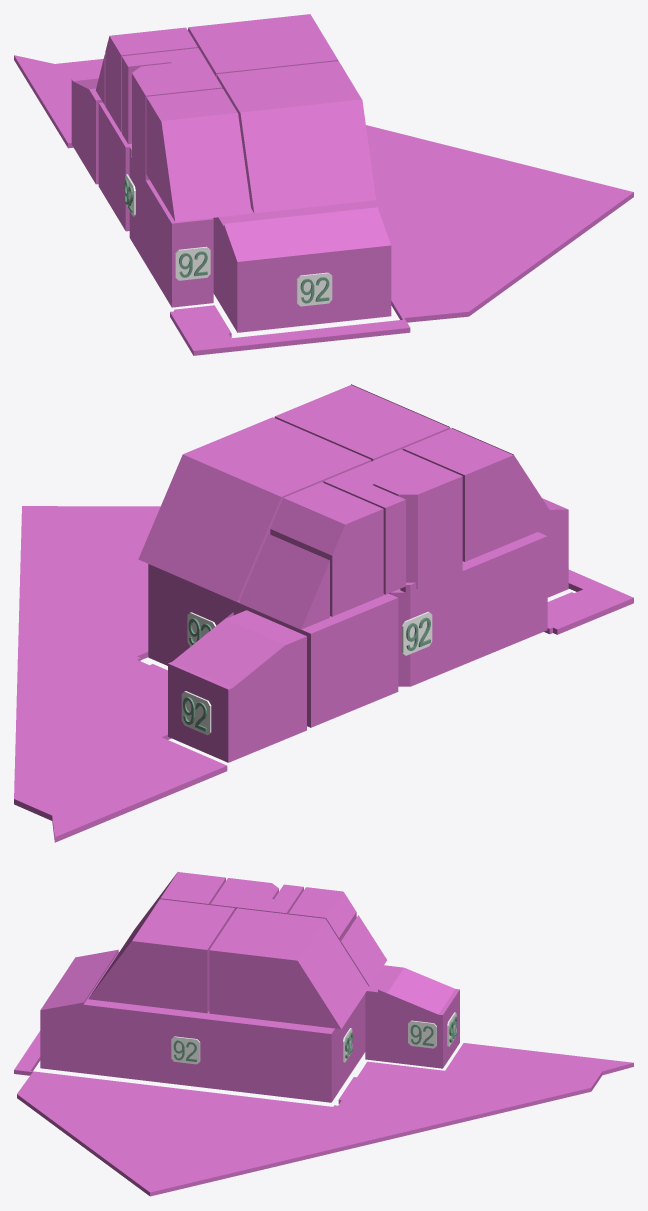
The picture shows the model from 3 angles, top to bottom: view 1: azimuth 30°, elevation 25°; view 2: azimuth 150°, elevation 25°; view 3: azimuth 270°, elevation 25°; orthographic projection. The views are drawn at different scales.
Parts seen in each view (by area): view 1: g_14, g_1, g_8, g_9, g_7, g_4, g_16, g_10, g_6, g_0, g_13, g_5 (+5 smaller); view 2: g_16, g_7, g_14, g_5, g_0, g_9, g_6, g_4, g_8, g_11, g_12, g_2 (+5 smaller); view 3: g_14, g_16, g_1, g_7, g_8, g_0, g_5, g_6, g_9, g_12, g_10, g_11 (+3 smaller).
Part boxes in pixels (x1,y1,x2,y2): g_14: (370, 147, 633, 322); g_1: (213, 200, 391, 332); g_8: (217, 61, 375, 213); g_9: (146, 88, 251, 221); g_7: (188, 14, 338, 77); g_4: (146, 181, 213, 307); g_16: (14, 55, 452, 155); g_10: (122, 48, 222, 143); g_6: (105, 27, 197, 132); g_0: (98, 102, 131, 231); g_13: (231, 319, 410, 351); g_5: (71, 76, 102, 184); g_16: (14, 605, 227, 842); g_7: (138, 417, 371, 601); g_14: (19, 506, 160, 659); g_5: (168, 610, 306, 762); g_0: (148, 564, 398, 727); g_9: (403, 428, 558, 561); g_6: (270, 482, 383, 616); g_4: (462, 532, 547, 663); g_8: (274, 384, 450, 461); g_11: (373, 465, 462, 581); g_12: (239, 533, 329, 629); g_2: (389, 563, 465, 686); g_14: (17, 1071, 332, 1196); g_16: (300, 1043, 633, 1160); g_1: (40, 949, 247, 1092); g_7: (209, 908, 369, 1029); g_8: (88, 899, 234, 1013); g_0: (244, 994, 365, 1102); g_5: (365, 965, 459, 1068); g_6: (288, 887, 356, 942); g_9: (117, 872, 225, 955); g_12: (341, 915, 386, 986); g_10: (210, 884, 303, 914); g_11: (221, 878, 278, 898).
Bounding box in the file's own units: 15.84 × 5.36 × 21.06.
